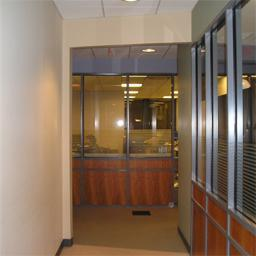Ventana: (227, 8, 255, 225), (73, 74, 129, 155), (210, 27, 231, 206), (129, 77, 172, 157), (193, 42, 212, 188)
